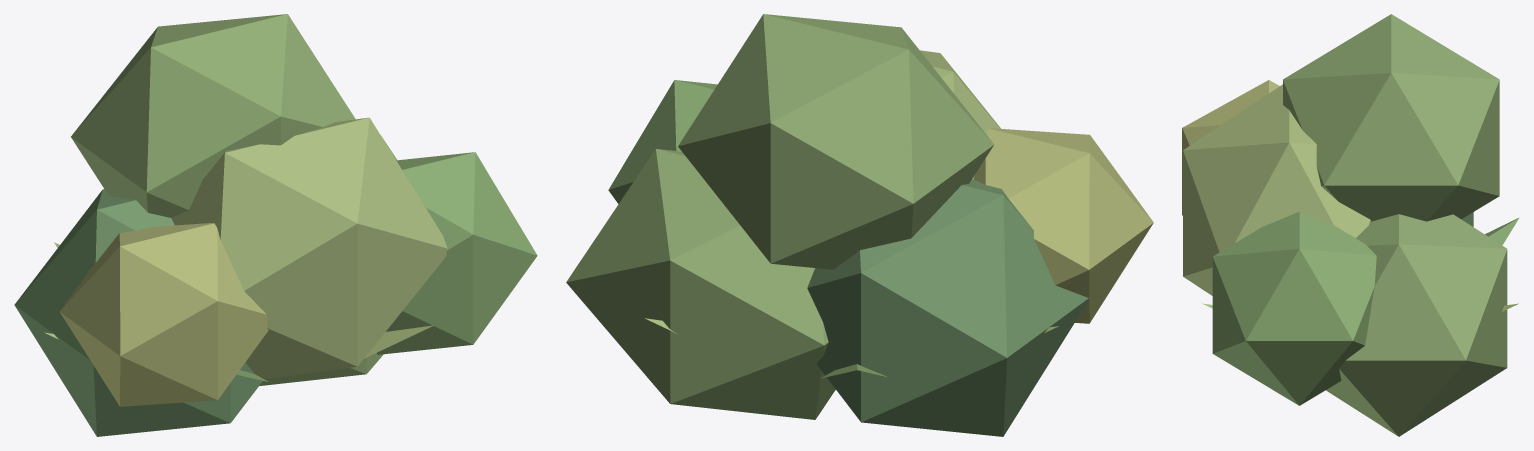
3 renders of one model, left to right at view 1: azimuth 30°, elevation 25°; view 2: azimuth 150°, elevation 25°; view 3: azimuth 270°, elevation 25°, orthographic. The views are drawn at different scales.
Parts seen in each view (by area): view 1: Body; view 2: Body; view 3: Body.
Part boxes in pixels (bbox=[...]): Body: bbox=[14, 14, 537, 436]; Body: bbox=[566, 14, 1153, 436]; Body: bbox=[1182, 14, 1519, 436].
Bounding box in the file's own units: 1.74 × 1.4 × 1.32.
